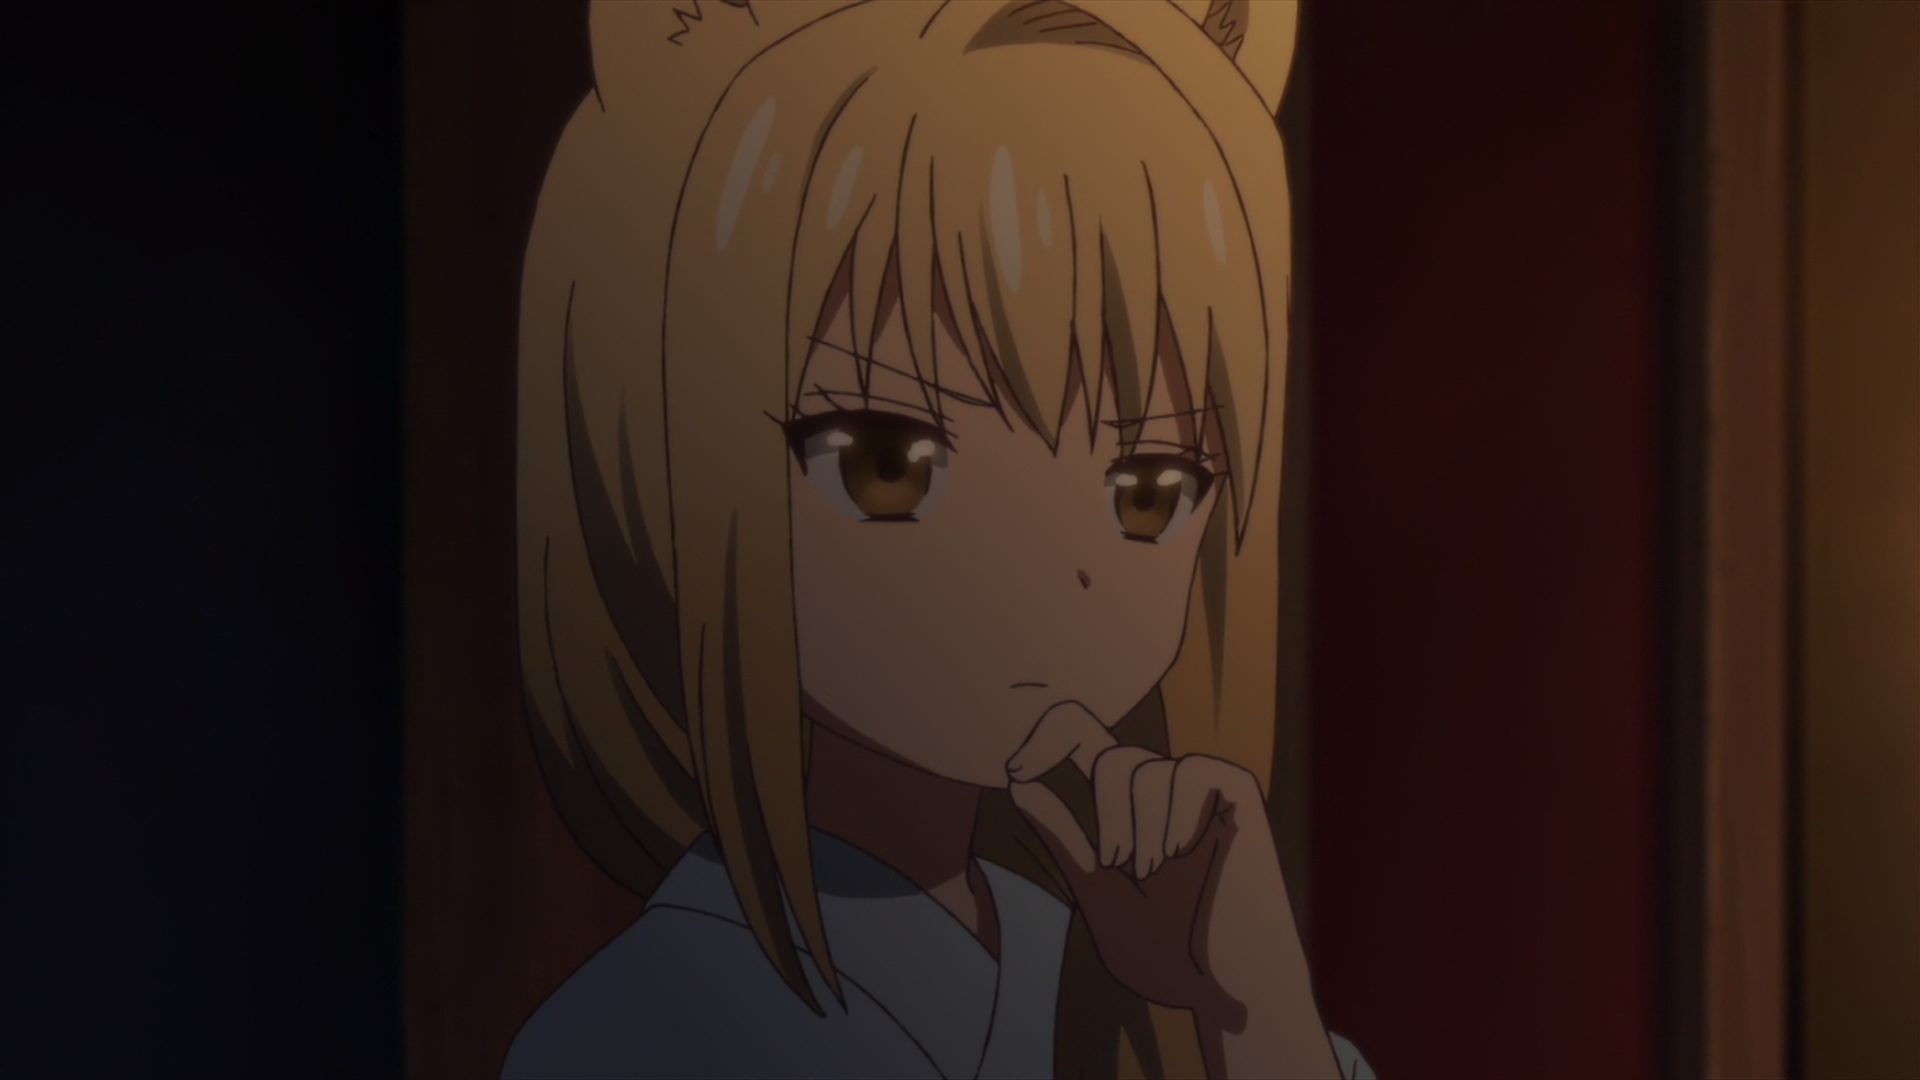桐: (500, 1, 1379, 1080)
